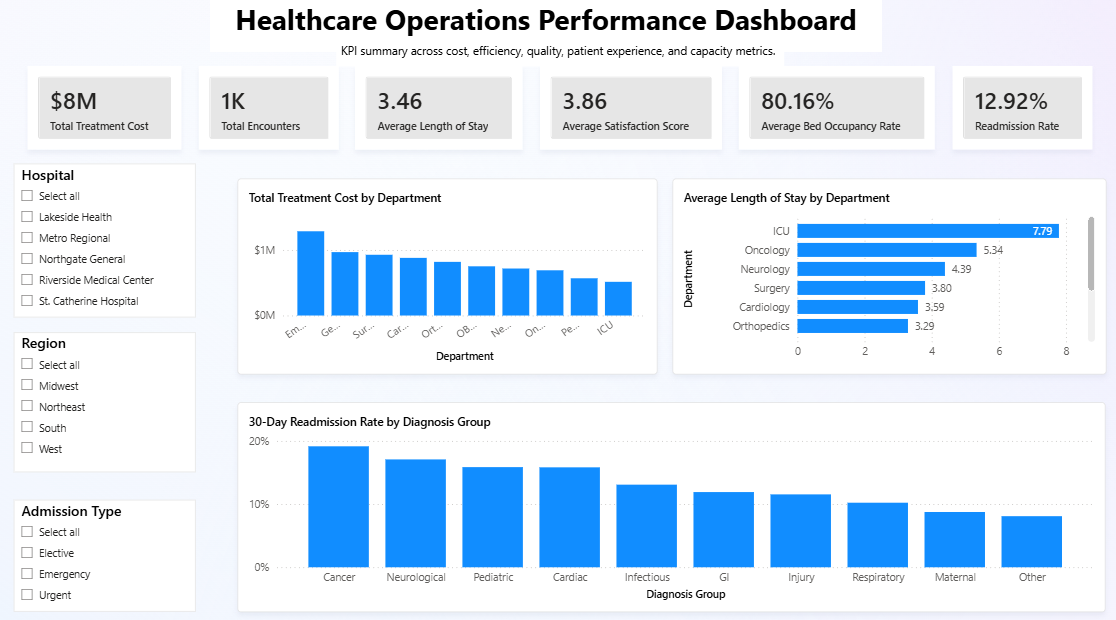

What the dashboard file says about the page in this screenshot:
{"tool":"powerbi","page":{"name":"Executive Dashboard","canvas":[1280,720],"ordinal":0},"visuals":[{"type":"cardVisual","fields":{"Data":["Data_Raw.Total Treatment Cost"]},"box":[32,80,176,96],"z":0},{"type":"cardVisual","fields":{"Data":["Data_Raw.Total Encounters"]},"box":[227.2,80,160,96],"z":1000},{"type":"cardVisual","fields":{"Data":["Data_Raw.Average Length of Stay"]},"box":[406.4,80,192,96],"z":2000},{"type":"cardVisual","fields":{"Data":["Data_Raw.Readmission Rate"]},"box":[1088,80,160,96],"z":3000},{"type":"cardVisual","fields":{"Data":["Data_Raw.Average Satisfaction Score"]},"box":[617.6,80,208,96],"z":4000},{"type":"cardVisual","fields":{"Data":["Data_Raw.Average Bed Occupancy Rate"]},"box":[844.8,80,224,96],"z":5000},{"type":"clusteredColumnChart","fields":{"Category":["Data_Raw.department"],"Y":["Data_Raw.Total Treatment Cost"]},"box":[272,208,480,224],"z":6000},{"type":"barChart","fields":{"Category":["Data_Raw.department"],"Y":["Data_Raw.Average Length of Stay"]},"box":[768,208,496,224],"z":7000},{"type":"columnChart","title":"30-Day Readmission Rate by Diagnosis Group","fields":{"Category":["Data_Raw.diagnosis_group"],"Y":["Data_Raw.Readmission Rate"]},"box":[272,464,992,240],"z":8000},{"type":"slicer","fields":{"Values":["Data_Raw.hospital"]},"box":[16,192,208,176],"z":9000},{"type":"slicer","fields":{"Values":["Data_Raw.region"]},"box":[16,384,208,160],"z":10000},{"type":"slicer","fields":{"Values":["Data_Raw.admission_type"]},"box":[16,576,208,128],"z":11000},{"type":"textbox","box":[240,0,768,64],"z":12000},{"type":"textbox","box":[384,48,512,32],"z":13000}]}

Visuals, with their boxes in screenshot pixels (x1, y1, x2, y2), scaled from the page's 1280x720 canvas onto the 1116x620 screenshot:
cardVisual - Data_Raw.Total Treatment Cost: x1=28 y1=69 x2=181 y2=152
cardVisual - Data_Raw.Total Encounters: x1=198 y1=69 x2=338 y2=152
cardVisual - Data_Raw.Average Length of Stay: x1=354 y1=69 x2=522 y2=152
cardVisual - Data_Raw.Readmission Rate: x1=949 y1=69 x2=1088 y2=152
cardVisual - Data_Raw.Average Satisfaction Score: x1=538 y1=69 x2=720 y2=152
cardVisual - Data_Raw.Average Bed Occupancy Rate: x1=737 y1=69 x2=932 y2=152
clusteredColumnChart - Data_Raw.department x Data_Raw.Total Treatment Cost: x1=237 y1=179 x2=656 y2=372
barChart - Data_Raw.department x Data_Raw.Average Length of Stay: x1=670 y1=179 x2=1102 y2=372
"30-Day Readmission Rate by Diagnosis Group" columnChart: x1=237 y1=400 x2=1102 y2=606
slicer - Data_Raw.hospital: x1=14 y1=165 x2=195 y2=317
slicer - Data_Raw.region: x1=14 y1=331 x2=195 y2=468
slicer - Data_Raw.admission_type: x1=14 y1=496 x2=195 y2=606
textbox: x1=209 y1=0 x2=879 y2=55
textbox: x1=335 y1=41 x2=781 y2=69
